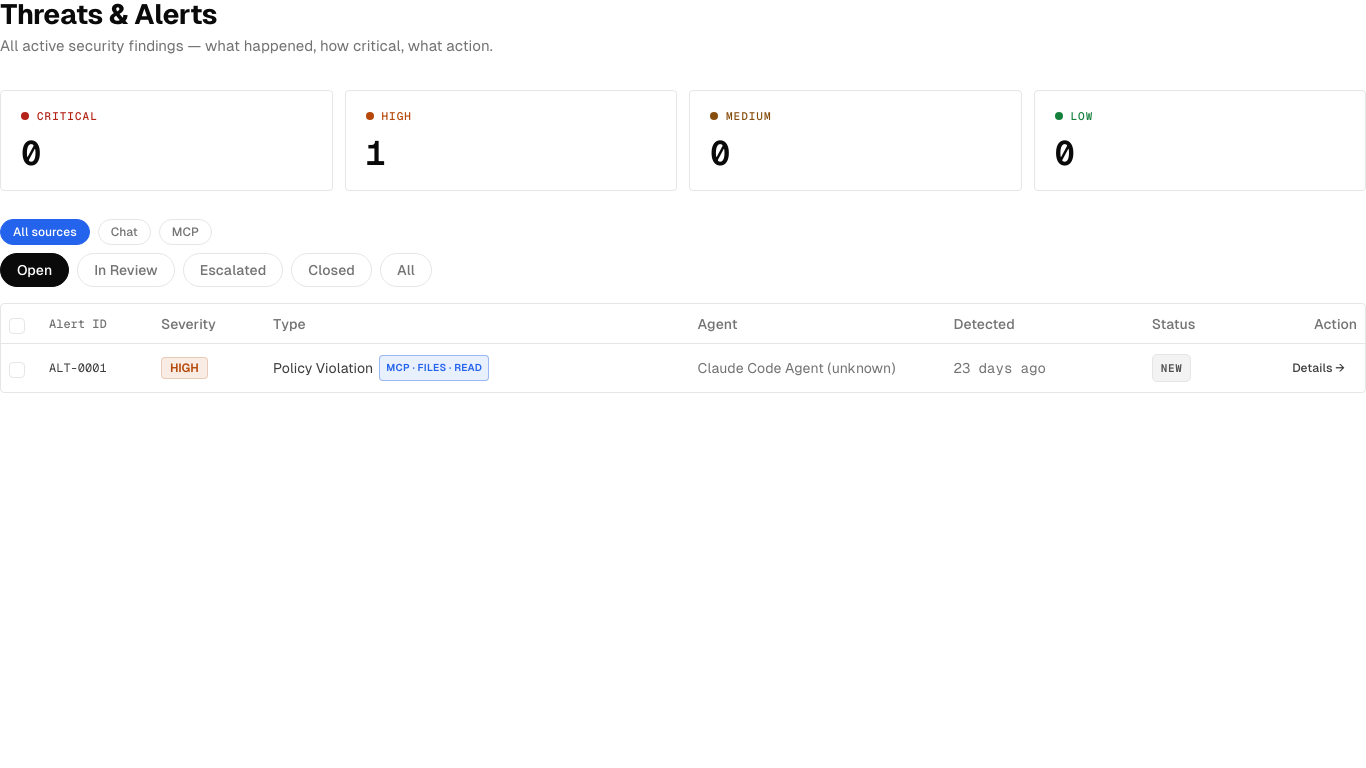
ThreatsAlertsPage — triage sheet › shows the MCP source panel for MCP alerts
This screenshot has width=1366, height=768.
What coordinates should you click on to do the following:
click the button "Details →"
I would click on:
 (1319, 368)
Its box is [1280, 352, 1357, 384].
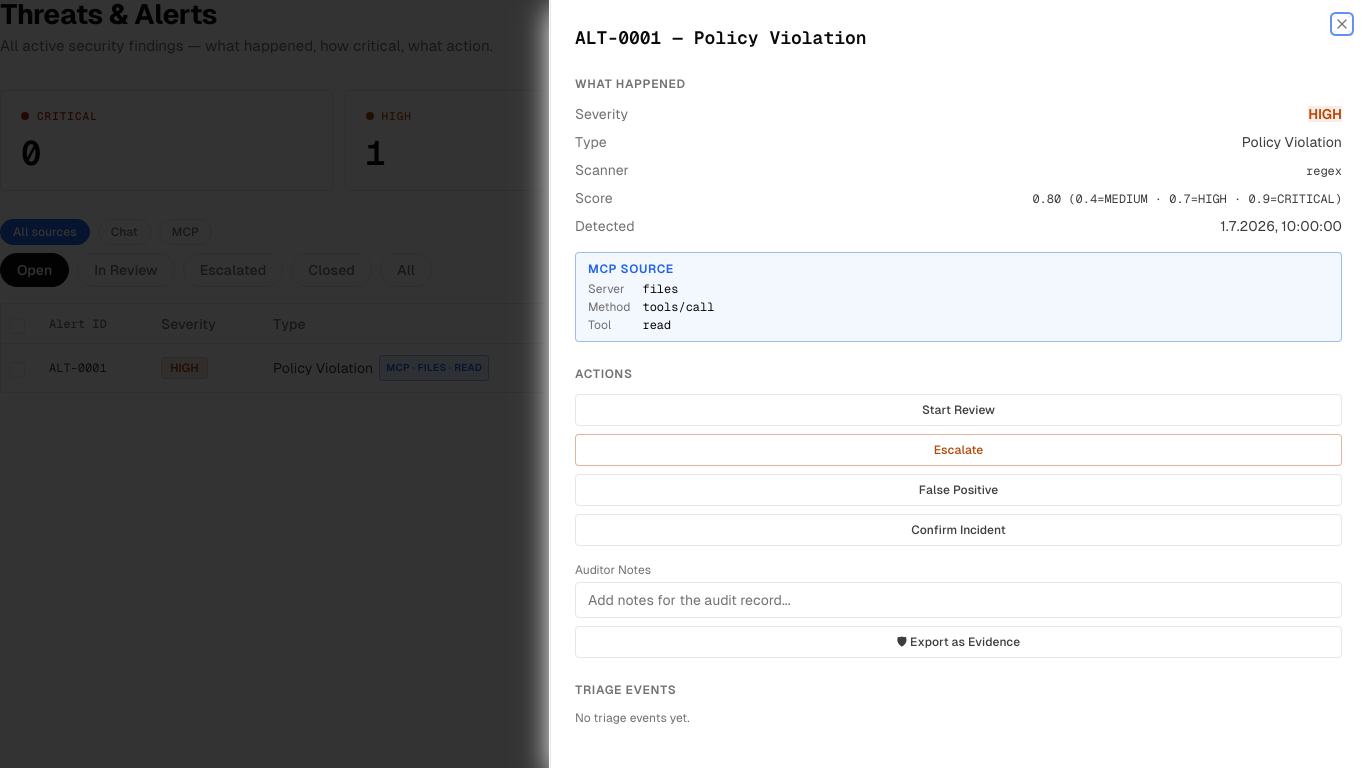
Check: the text "MCP source" is shown, box [588, 262, 674, 276]
Check: the text "tools/call" is shown, box [642, 299, 714, 315]
